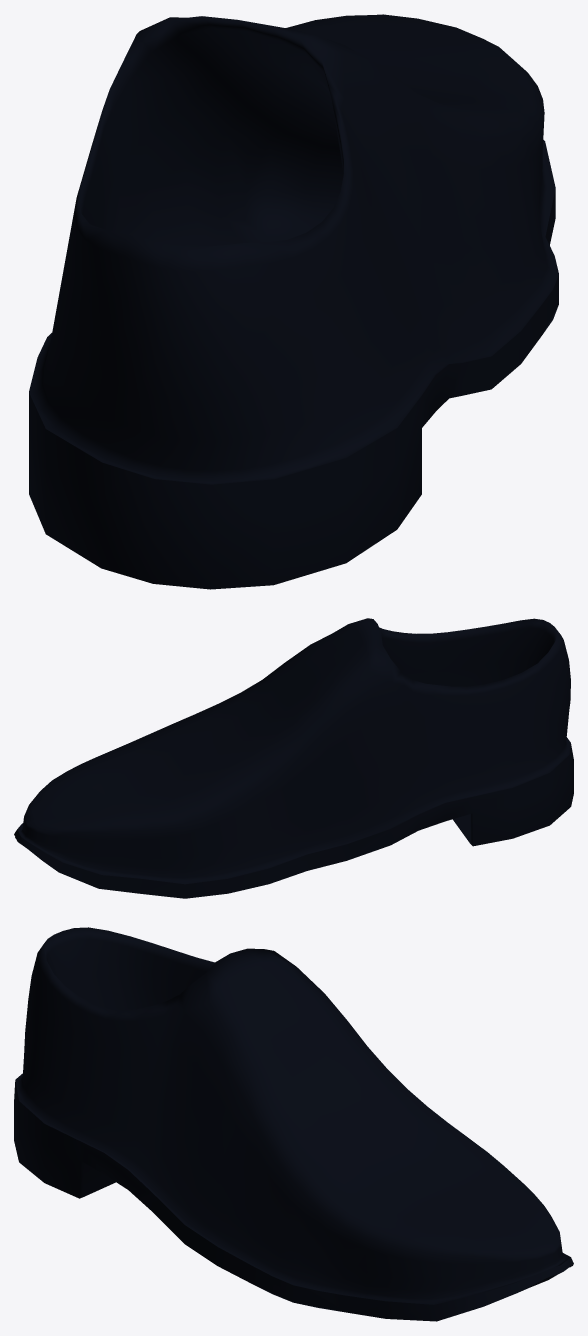
The model's file is Menshoe2.fbx.
3 renders of one model, top to bottom at view 1: azimuth 30°, elevation 25°; view 2: azimuth 150°, elevation 25°; view 3: azimuth 270°, elevation 25°, orthographic. The views are drawn at different scales.
Visible parts, largest first — view 1: Shoe2; view 2: Shoe2; view 3: Shoe2.
Boxes of the visible parts, x1=… form: Shoe2: x1=29, y1=14, x2=558, y2=589; Shoe2: x1=14, y1=618, x2=573, y2=898; Shoe2: x1=14, y1=927, x2=573, y2=1321.
Size of the model in its own units: 3.81 by 2.01 by 4.2.
1 material, 1 textured.
